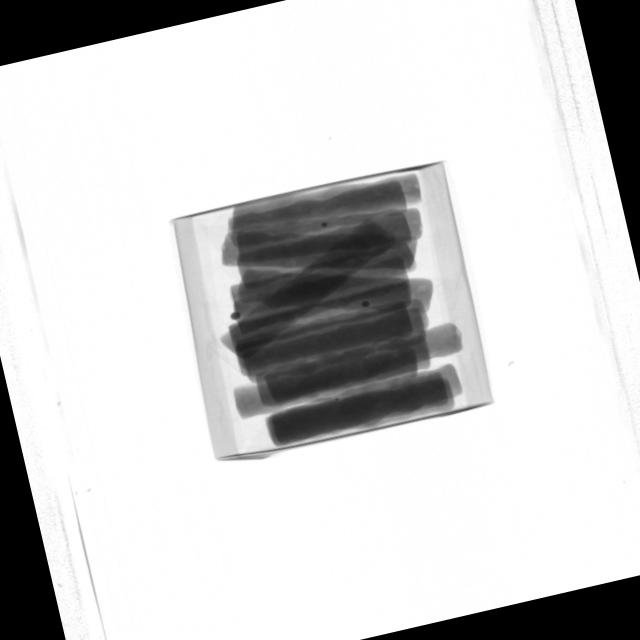ym: (229, 311, 242, 321), (361, 300, 370, 309), (321, 221, 327, 227), (334, 397, 339, 402)
